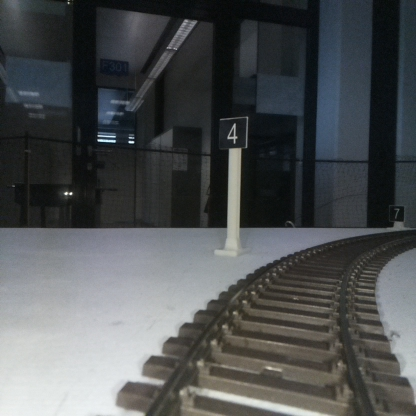black-info-4: (219, 117, 246, 253)
black-stop-7: (390, 205, 404, 228)
